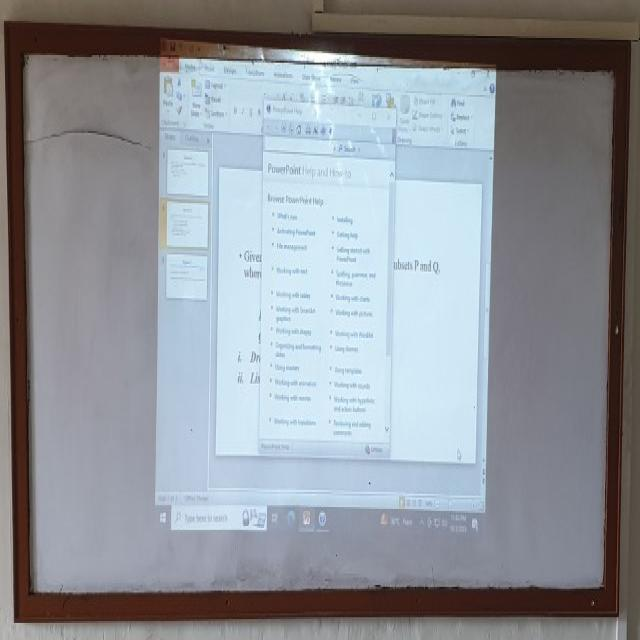Slide: (155, 37, 495, 544)
White-board: (17, 33, 625, 605)
